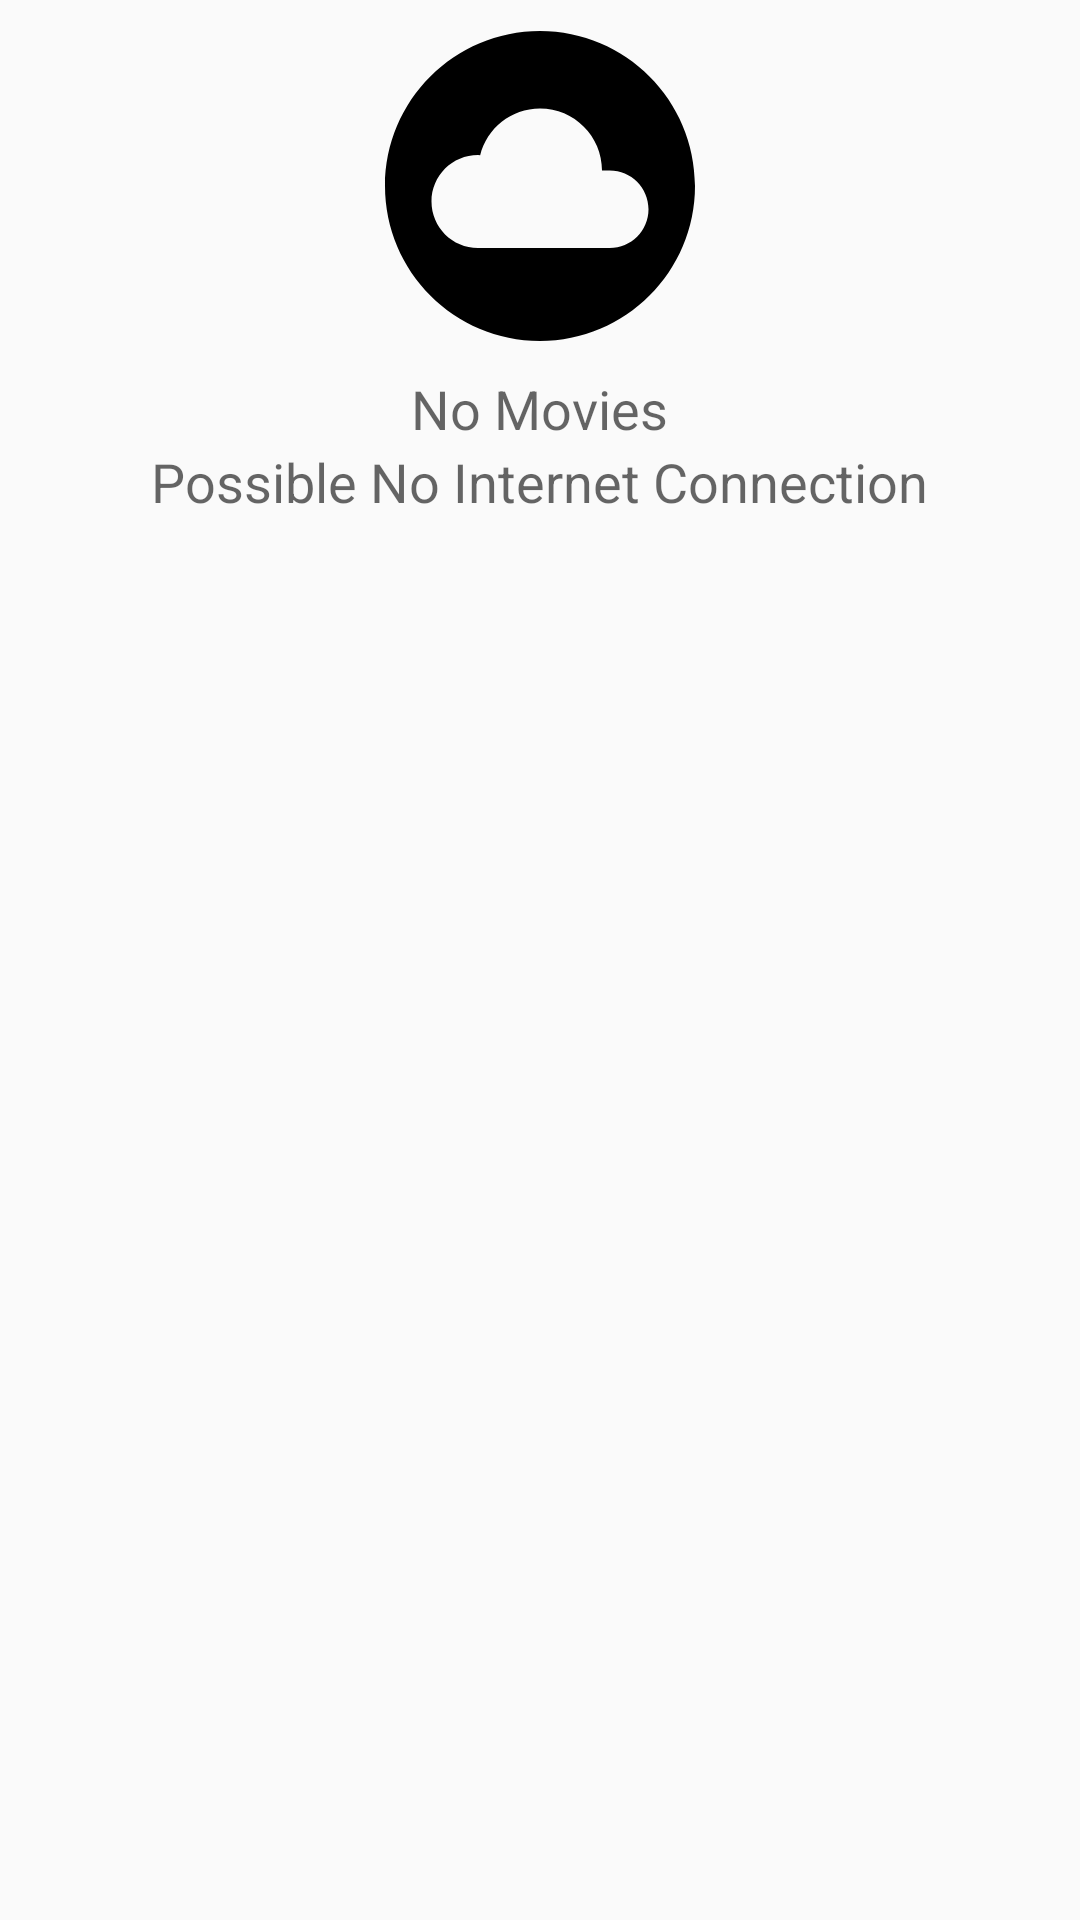

Screen size 1080px×1920px. Icon name, then its box in pixels as bbox=[x1, y1, x2, y2]:
cloud circle: bbox=[385, 31, 695, 341]
